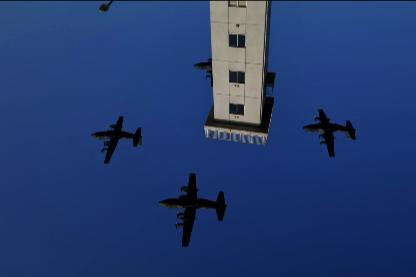Be200: (158, 173, 228, 247), (303, 109, 357, 157), (92, 116, 142, 164), (194, 59, 214, 87)
